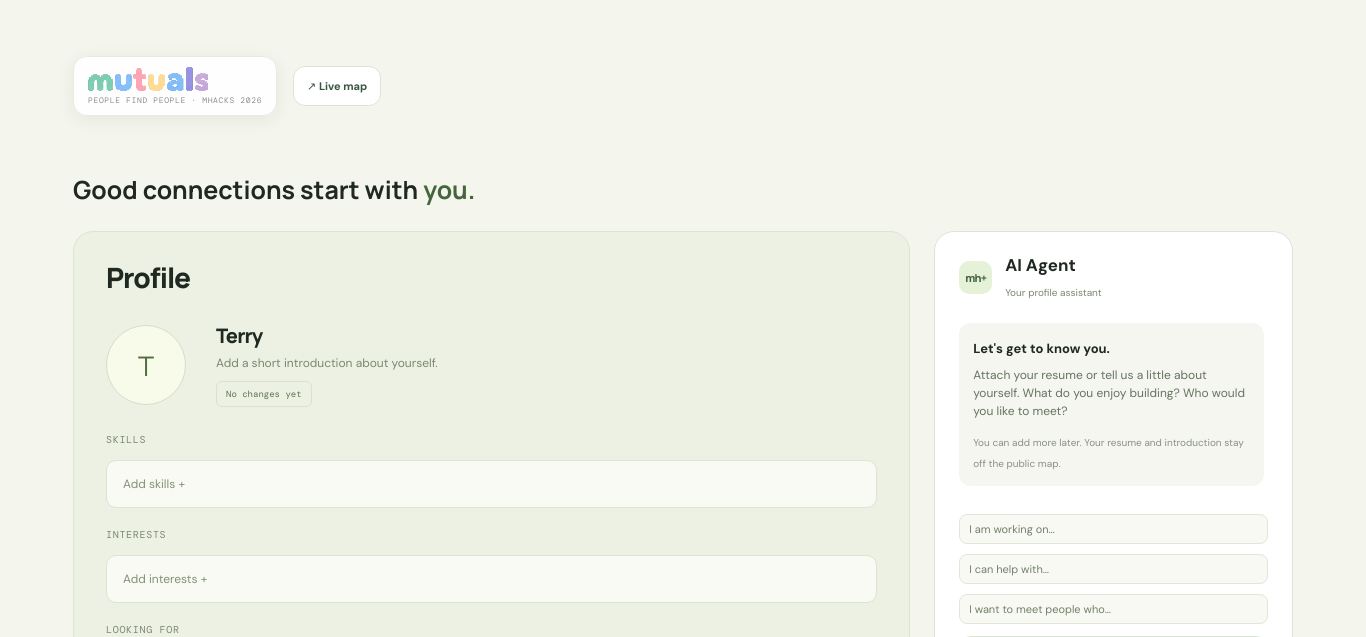
profile intake › places saved profile before its assistant and uses empty fields to focus the existing composer
Click the button "Add skills +": click(154, 484) [106, 460, 877, 508]
(page scrolled)
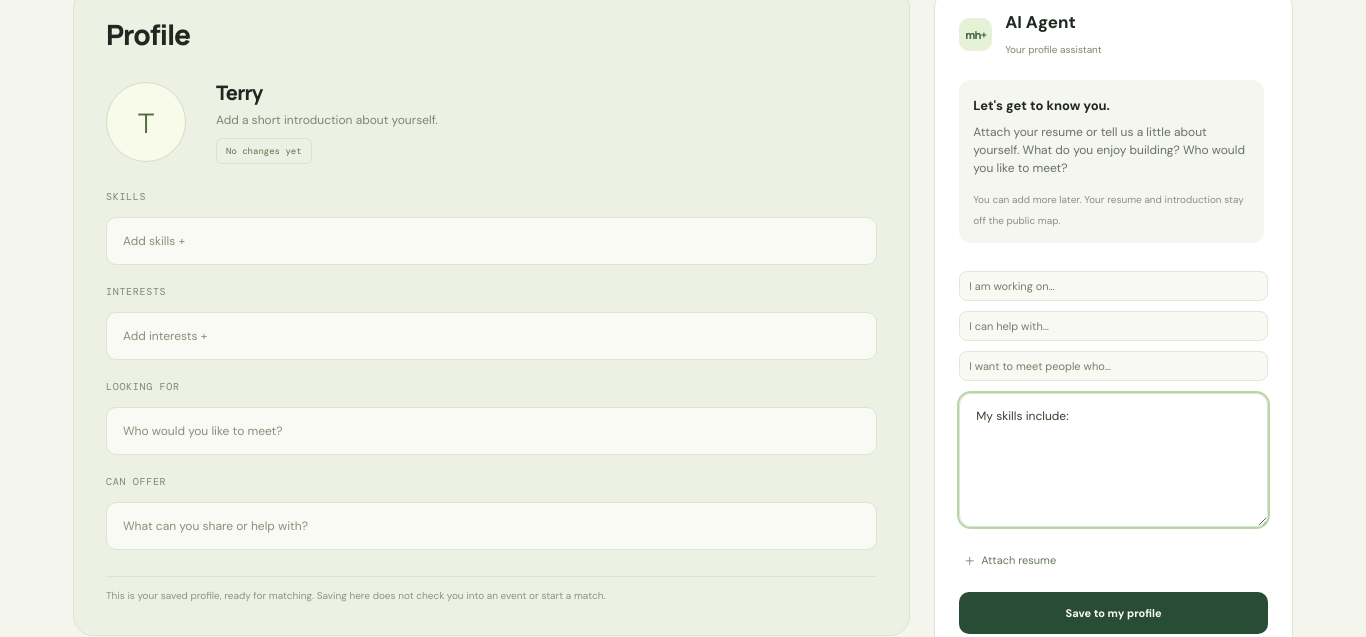
expect the text box named "Your introduction" holds "My skills include: ": met, box [959, 393, 1268, 527]
